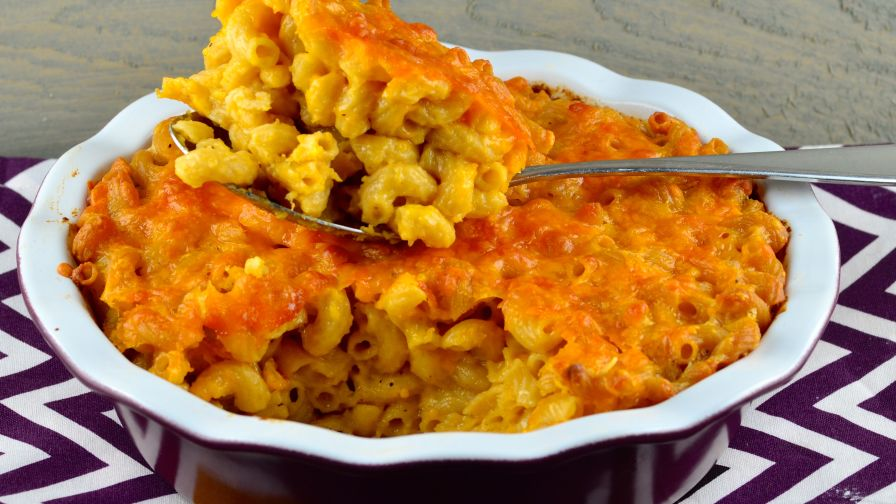macncheese: (142, 42, 546, 416)
